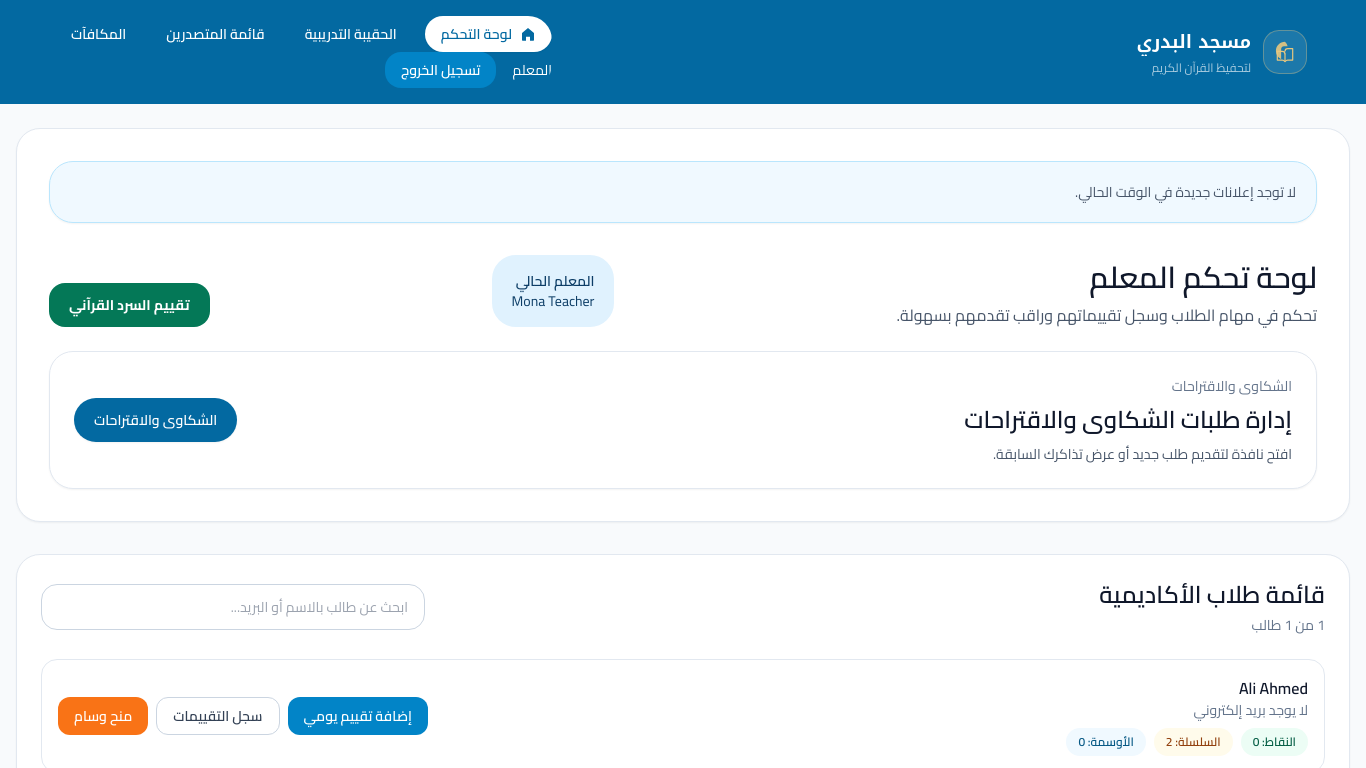
Test: teacher submits a daily evaluation and sees success feedback
Check: the heading "لوحة تحكم المعلم" is shown, box [1089, 249, 1317, 305]
Check: the text "Ali Ahmed" is shown, box [1239, 673, 1308, 703]
Click the button "إضافة تقييم يومي" at (358, 716), box [288, 697, 428, 735]
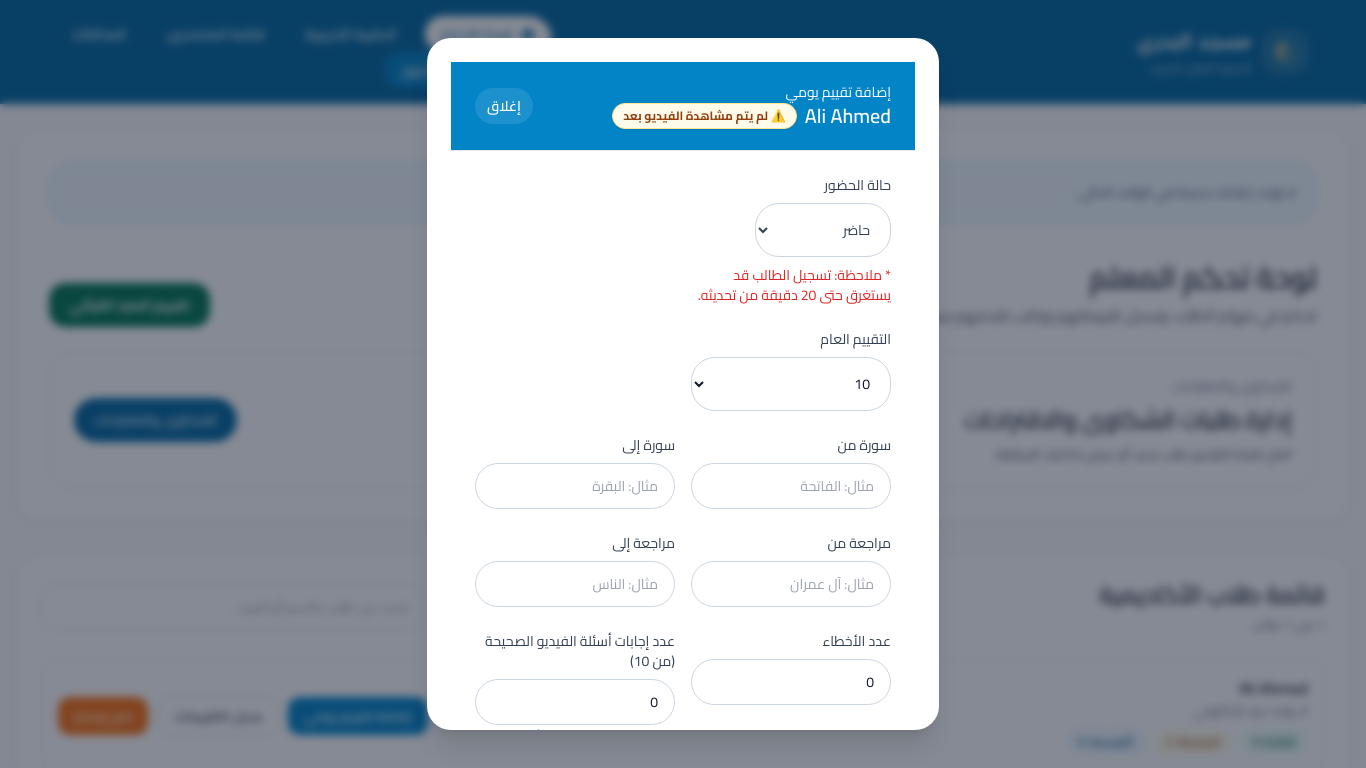
Type "البقرة" into the field with placeholder "مثال: الفاتحة" at (791, 486), box [691, 463, 891, 509]
(page scrolled)
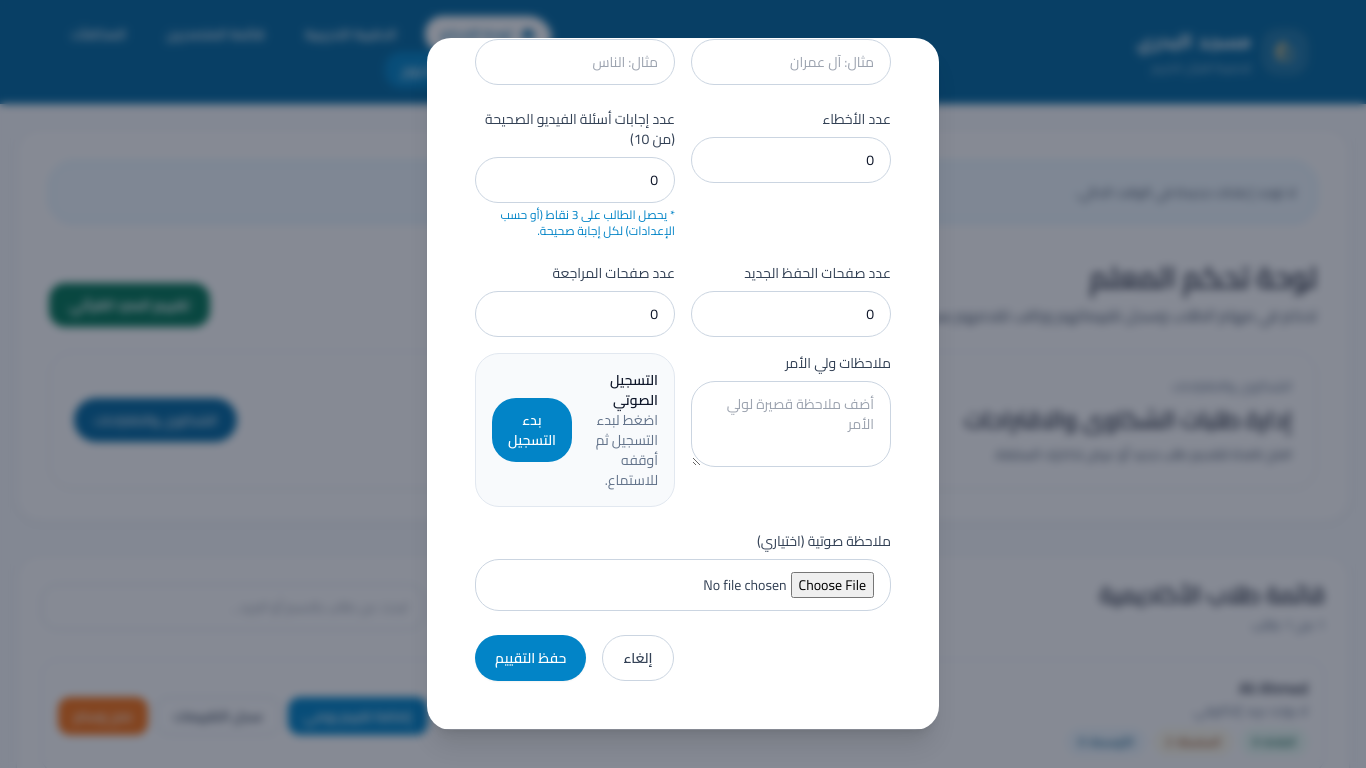
Click the button "حفظ التقييم" at (531, 658), box [475, 635, 586, 681]
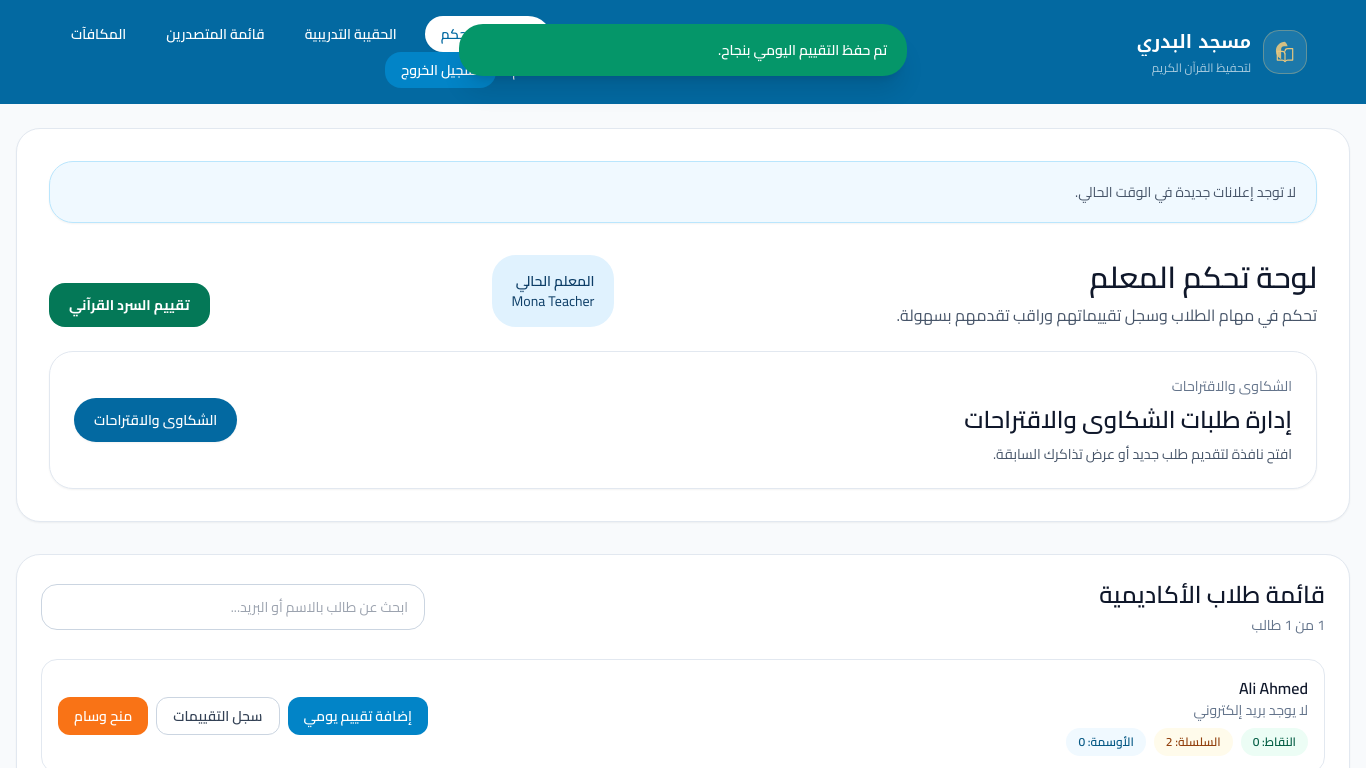
Check: the text "تم حفظ التقييم اليومي بنجاح." is shown, box [459, 24, 907, 76]
